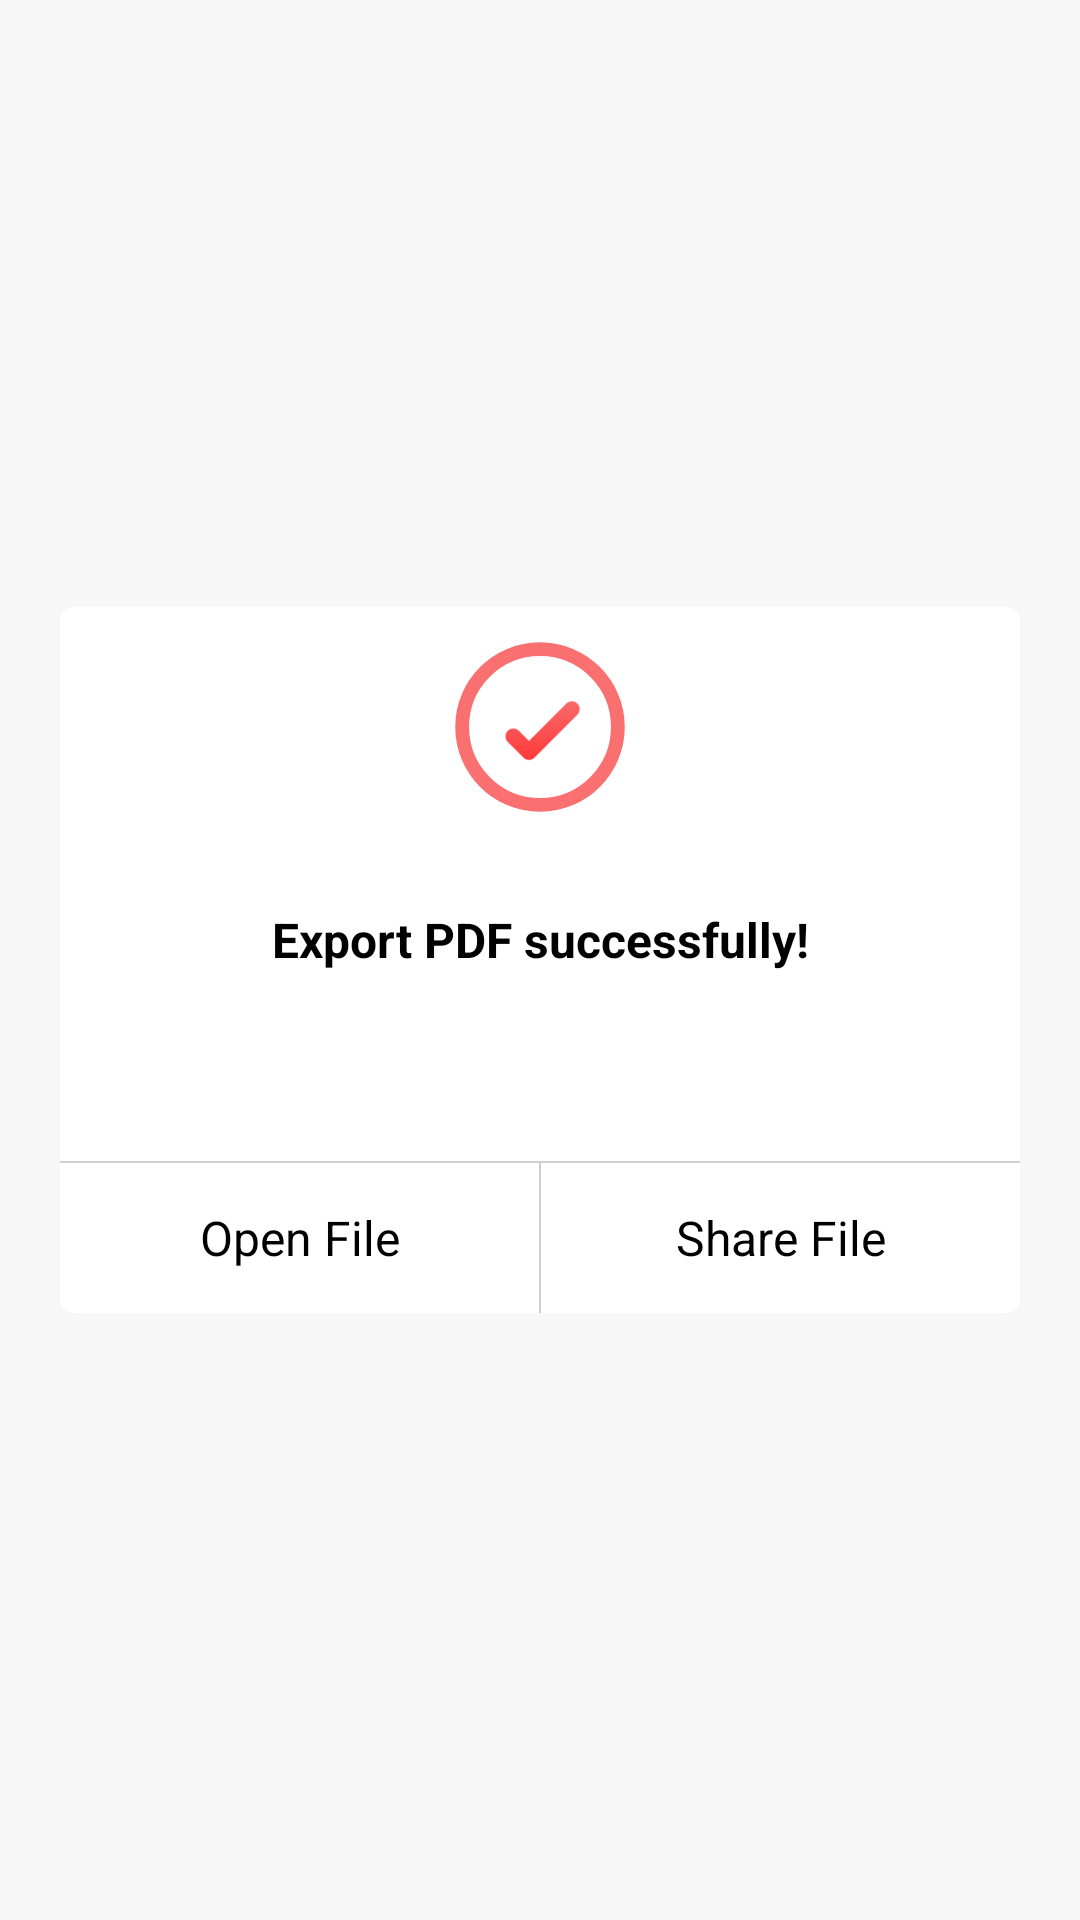

Point at icon controls on the screen. Image size 1080 x 1920, points as (x,y).
pdfsettings success: (540,727)
